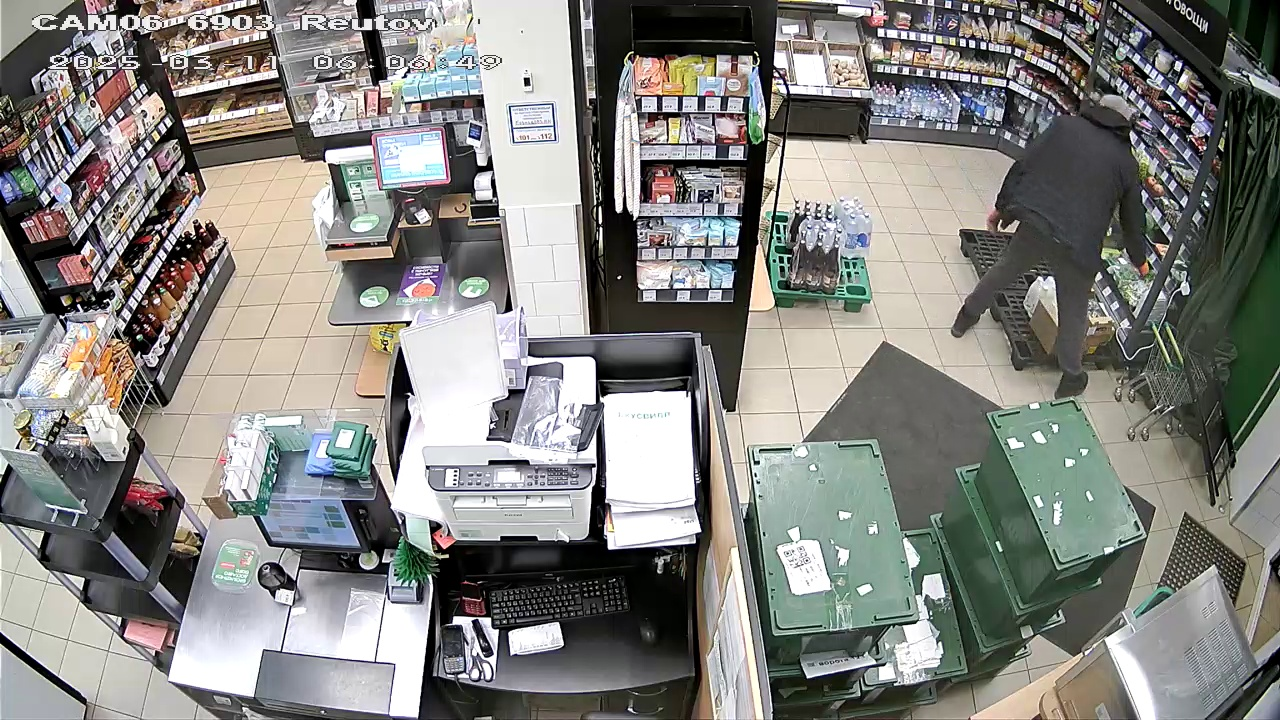Human: (953, 77, 1152, 392)
pallet: (961, 225, 1119, 366)
